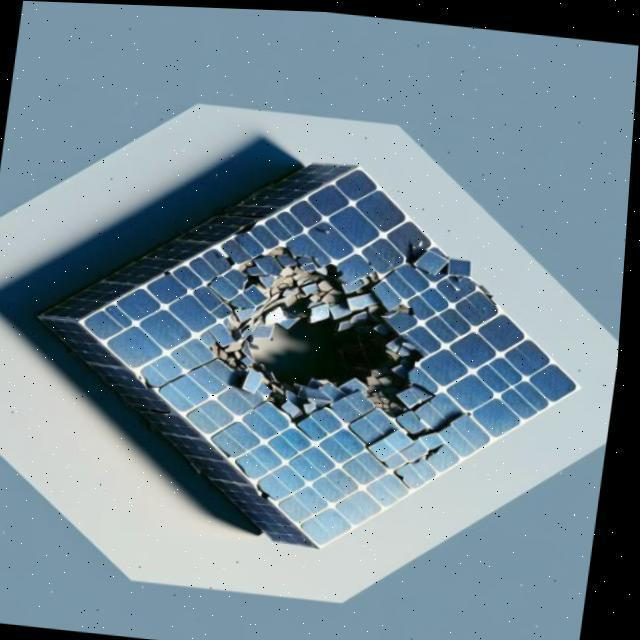Anomaly Solar Panel: (85, 103, 584, 600)
Structural Damage: (187, 233, 501, 455), (401, 237, 480, 285)
